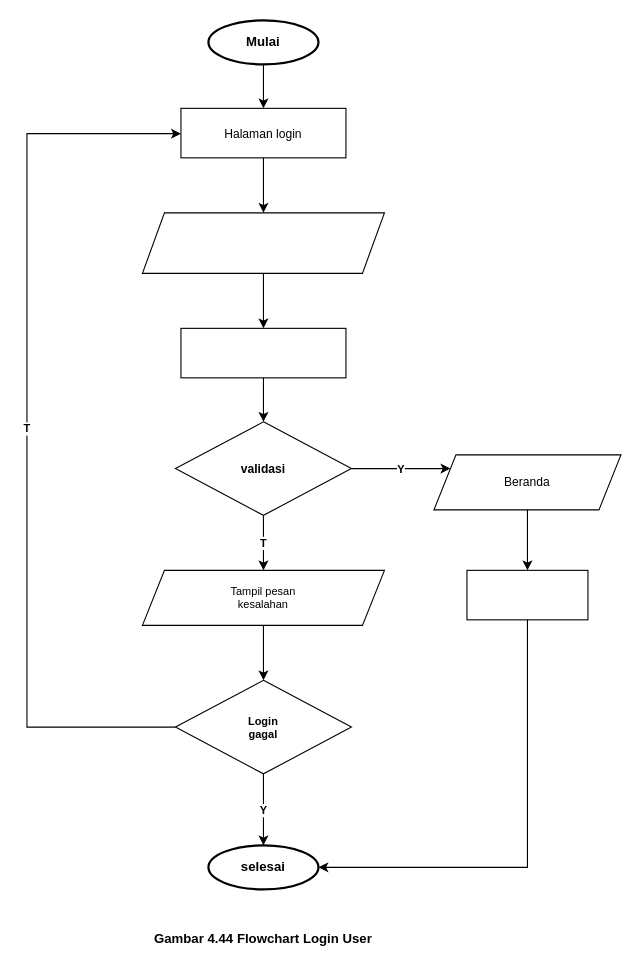
This 640x974 diagram has some shape labels left out. Each missing label, with the box of its shape:
Login: (180, 327, 346, 378)
Masukan ussername dan password: (141, 212, 384, 273)
Menu: (466, 569, 588, 620)
